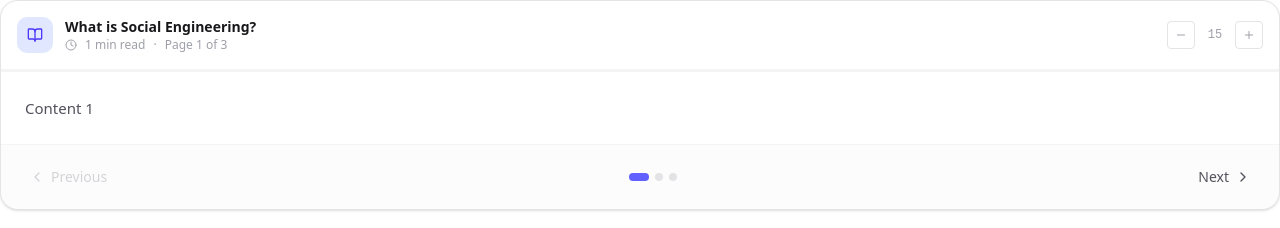
ContentReader Component › navigates to the previous page when clicking the Previous button
Expected: the heading "What is Social Engineering?" is shown, [65,17,256,37]
Click the button "Next": (1225, 177) [1186,161,1263,193]
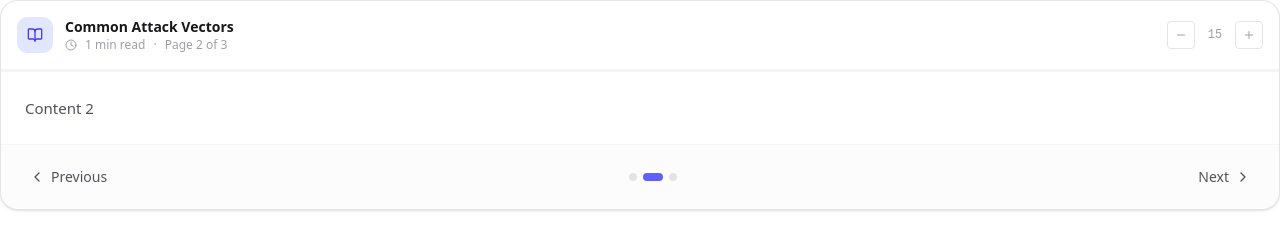
Now the heading "Common Attack Vectors" is shown, box [65,17,234,37]
Click the button "Previous": (68, 177) [17,161,119,193]
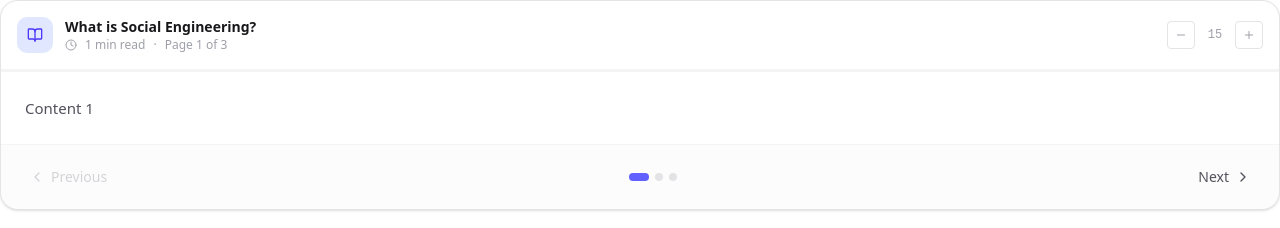
Now the heading "What is Social Engineering?" is shown, box [65,17,256,37]
Now the text "Page 1 of 3" is shown, box [165,37,227,53]
